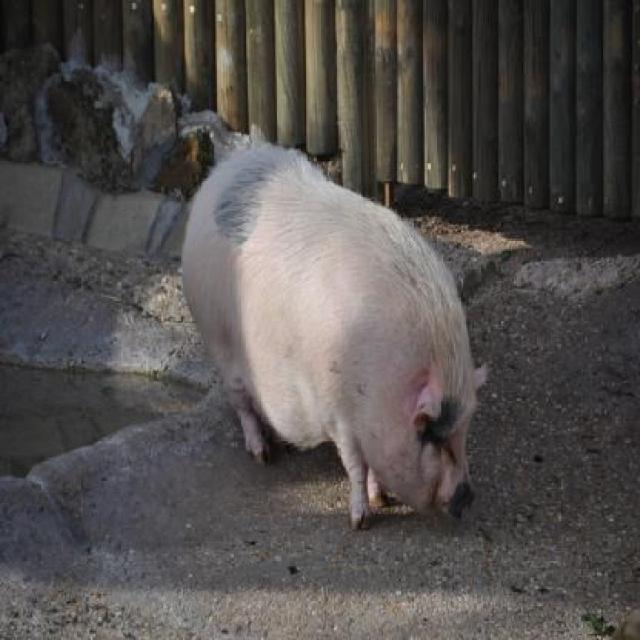Boar: (178, 138, 491, 532)
